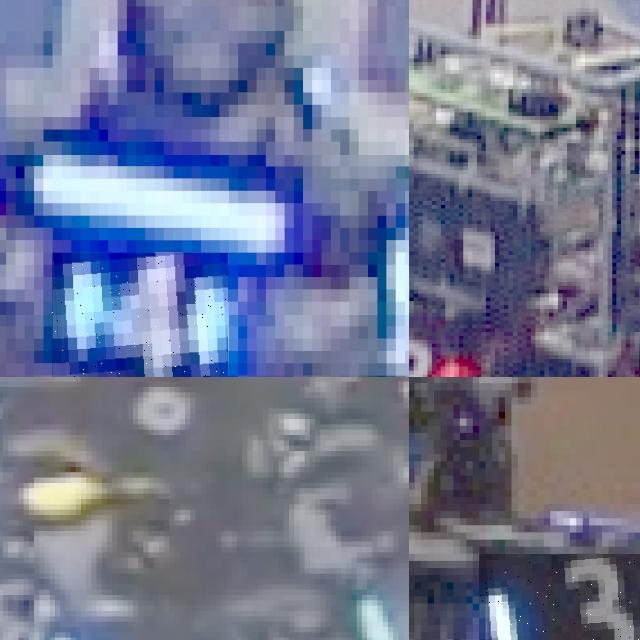B3: (479, 554, 640, 640)
B4: (52, 252, 228, 377)
R2: (409, 324, 456, 377)
